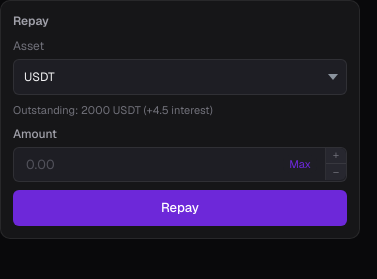
Scenario: RepayForm › shows validation error when amount is zero on submit
Step 1. Click the button "Repay" → (180,208), box top-left (13, 190), bottom-right (347, 226)
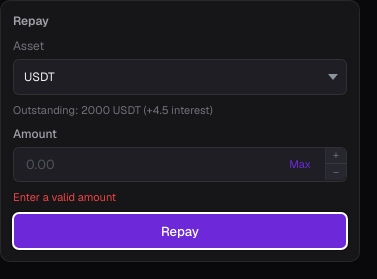
Expected: the text "Enter a valid amount" is shown, top-left (13, 190), bottom-right (116, 204)
